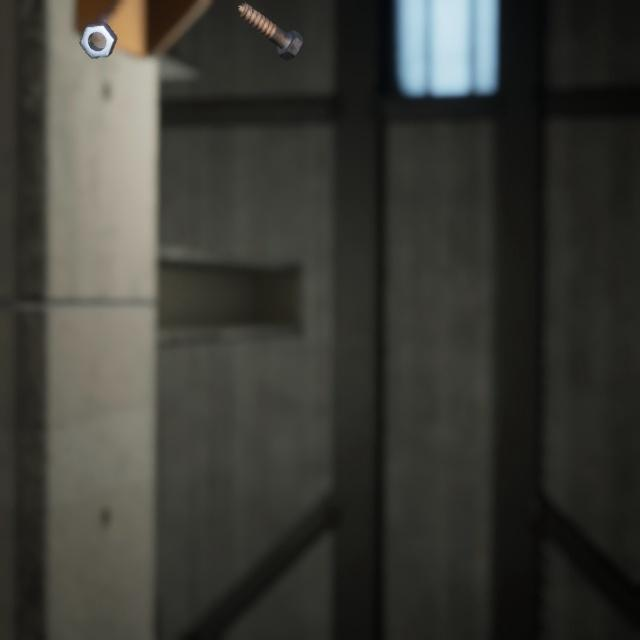bolt: (233, 0, 307, 55)
nut: (75, 10, 121, 53)
